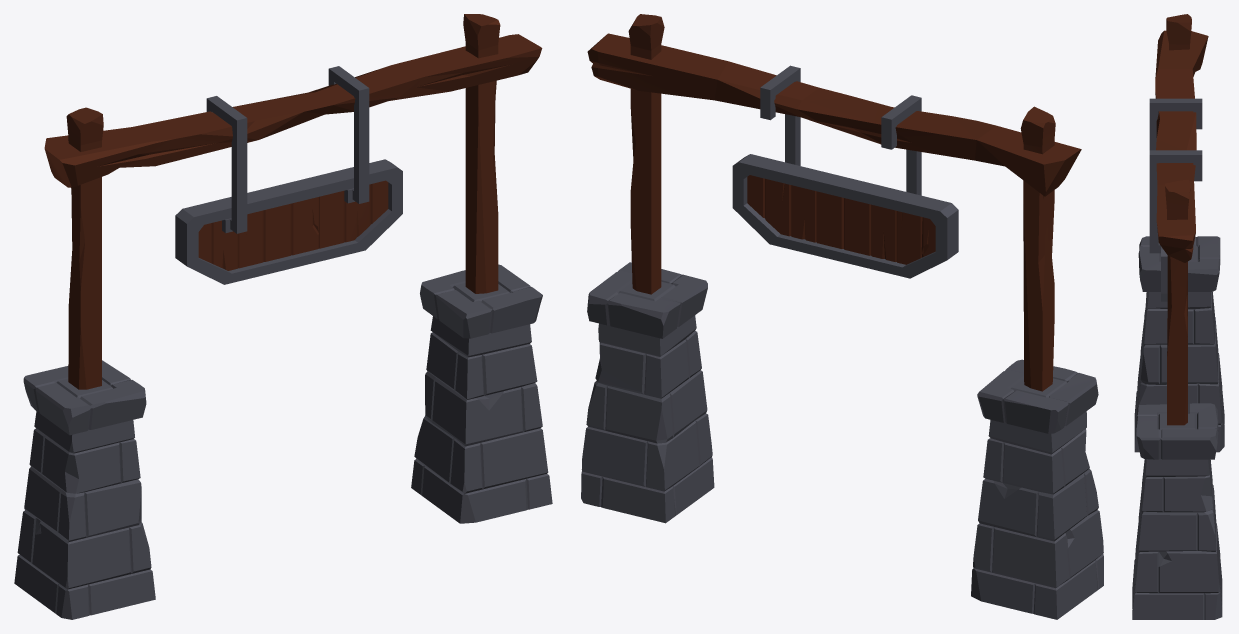
Rendered from Gate.001.fbx.
3 views of the same model, side by side, from view 1: azimuth 30°, elevation 25°; view 2: azimuth 150°, elevation 25°; view 3: azimuth 270°, elevation 25° (orthographic). The views are drawn at different scales.
Parts seen in each view (by area): view 1: Gate.001; view 2: Gate.001; view 3: Gate.001.
Boxes of the visible parts, left/top/right/bottom form: Gate.001: left=14, top=14, right=552, bottom=619; Gate.001: left=581, top=14, right=1103, bottom=619; Gate.001: left=1132, top=14, right=1224, bottom=619.
Size of the model in its own units: 129 by 120 by 24.09.
